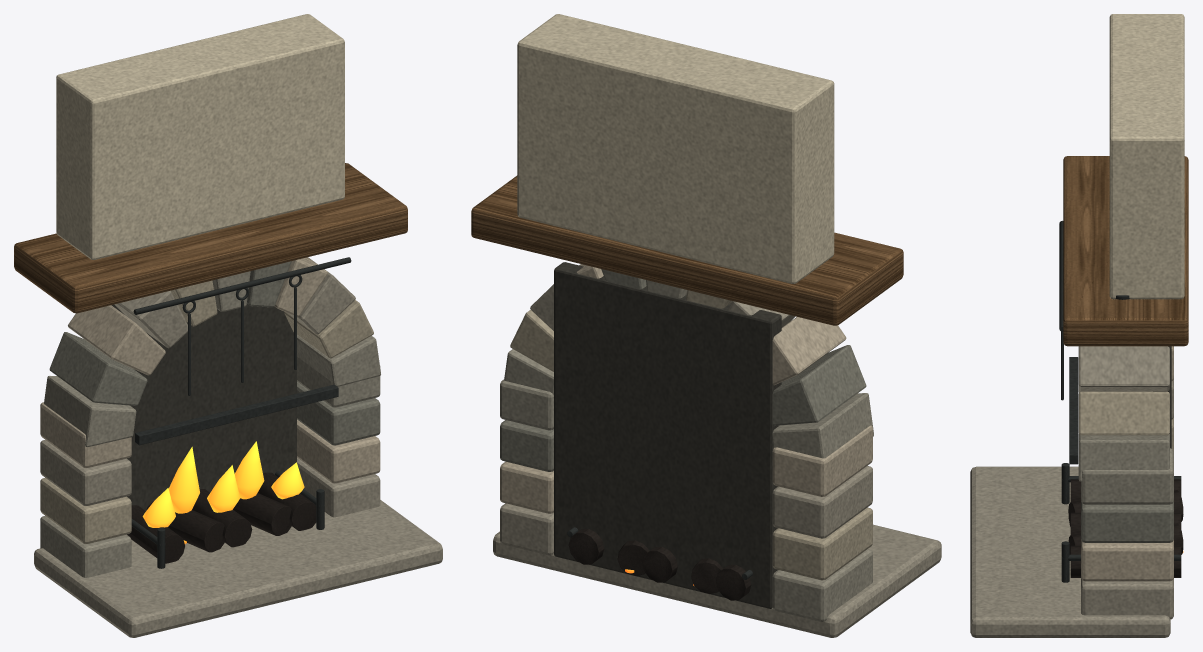
File: tavern-hearth.glb
3 views of the same model, side by side, from view 1: azimuth 30°, elevation 25°; view 2: azimuth 150°, elevation 25°; view 3: azimuth 270°, elevation 25° (orthographic). The views are drawn at different scales.
Visible parts, largest first — view 1: tavern-hearth - Tavern warm limewash runtime PBR, tavern-hearth - Tavern warm limestone 2 runtime PBR, tavern-hearth - Tavern smoke darkened firebrick runtime PBR, tavern-hearth - Tavern aged timber framing runtime PBR, tavern-hearth - Tavern warm limestone 0 runtime PBR, tavern-hearth - Tavern warm limestone 3 runtime PBR, tavern-hearth - Tavern warm limestone 4 runtime PBR, tavern-hearth - Tavern charred oak logs runtime PBR, tavern-hearth - Tavern warm limestone 1 runtime PBR, tavern-hearth - Tavern forged black iron runtime PBR, tavern-hearth - Tavern amber flame runtime PBR; view 2: tavern-hearth - Tavern warm limewash runtime PBR, tavern-hearth - Tavern smoke darkened firebrick runtime PBR, tavern-hearth - Tavern aged timber framing runtime PBR, tavern-hearth - Tavern warm limestone 2 runtime PBR, tavern-hearth - Tavern warm limestone 0 runtime PBR, tavern-hearth - Tavern warm limestone 3 runtime PBR, tavern-hearth - Tavern warm limestone 4 runtime PBR, tavern-hearth - Tavern warm limestone 1 runtime PBR, tavern-hearth - Tavern charred oak logs runtime PBR; view 3: tavern-hearth - Tavern warm limestone 2 runtime PBR, tavern-hearth - Tavern warm limewash runtime PBR, tavern-hearth - Tavern aged timber framing runtime PBR, tavern-hearth - Tavern warm limestone 0 runtime PBR, tavern-hearth - Tavern warm limestone 1 runtime PBR, tavern-hearth - Tavern warm limestone 3 runtime PBR, tavern-hearth - Tavern warm limestone 4 runtime PBR, tavern-hearth - Tavern forged black iron runtime PBR, tavern-hearth - Tavern charred oak logs runtime PBR.
Boxes of the visible parts, x1,y1,x2,y2 form: tavern-hearth - Tavern warm limewash runtime PBR: (56, 14, 344, 259); tavern-hearth - Tavern warm limestone 2 runtime PBR: (34, 257, 442, 637); tavern-hearth - Tavern smoke darkened firebrick runtime PBR: (111, 303, 296, 510); tavern-hearth - Tavern aged timber framing runtime PBR: (14, 163, 407, 313); tavern-hearth - Tavern warm limestone 0 runtime PBR: (40, 271, 380, 577); tavern-hearth - Tavern warm limestone 3 runtime PBR: (40, 257, 380, 483); tavern-hearth - Tavern warm limestone 4 runtime PBR: (49, 261, 380, 445); tavern-hearth - Tavern charred oak logs runtime PBR: (127, 472, 316, 563); tavern-hearth - Tavern warm limestone 1 runtime PBR: (40, 280, 373, 543); tavern-hearth - Tavern forged black iron runtime PBR: (131, 257, 351, 568); tavern-hearth - Tavern amber flame runtime PBR: (142, 441, 304, 527); tavern-hearth - Tavern warm limewash runtime PBR: (517, 14, 834, 283); tavern-hearth - Tavern smoke darkened firebrick runtime PBR: (554, 262, 781, 608); tavern-hearth - Tavern aged timber framing runtime PBR: (471, 175, 903, 325); tavern-hearth - Tavern warm limestone 2 runtime PBR: (493, 264, 941, 637); tavern-hearth - Tavern warm limestone 0 runtime PBR: (500, 280, 873, 621); tavern-hearth - Tavern warm limestone 3 runtime PBR: (500, 264, 872, 513); tavern-hearth - Tavern warm limestone 4 runtime PBR: (500, 269, 866, 471); tavern-hearth - Tavern warm limestone 1 runtime PBR: (510, 290, 872, 580); tavern-hearth - Tavern charred oak logs runtime PBR: (568, 529, 751, 600); tavern-hearth - Tavern warm limestone 2 runtime PBR: (970, 346, 1173, 637); tavern-hearth - Tavern warm limewash runtime PBR: (1109, 14, 1184, 299); tavern-hearth - Tavern aged timber framing runtime PBR: (1063, 156, 1188, 346); tavern-hearth - Tavern warm limestone 0 runtime PBR: (1078, 434, 1173, 504); tavern-hearth - Tavern warm limestone 1 runtime PBR: (1078, 391, 1173, 451); tavern-hearth - Tavern warm limestone 3 runtime PBR: (1081, 346, 1173, 581); tavern-hearth - Tavern warm limestone 4 runtime PBR: (1081, 501, 1173, 542); tavern-hearth - Tavern forged black iron runtime PBR: (1059, 220, 1181, 582); tavern-hearth - Tavern charred oak logs runtime PBR: (1068, 479, 1183, 577).
Bounding box in the file's own units: 2.4 × 3.3 × 1.34.
14 materials, 10 textured.
